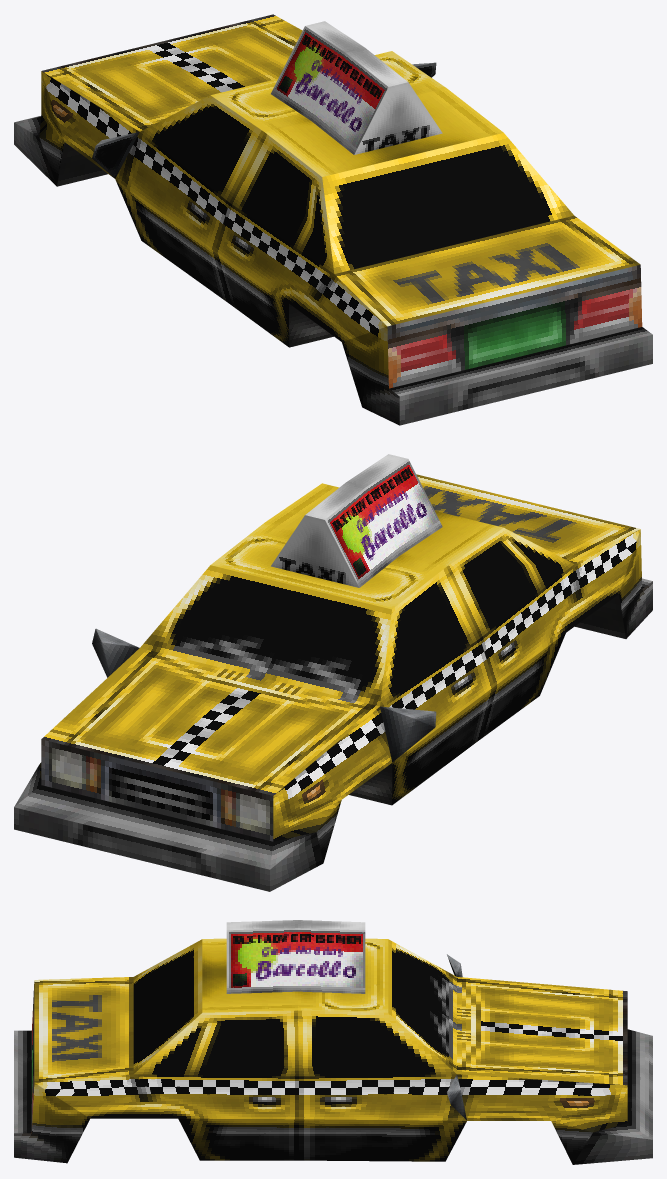
3 renders of one model, top to bottom at view 1: azimuth 30°, elevation 25°; view 2: azimuth 150°, elevation 25°; view 3: azimuth 270°, elevation 25°, orthographic. The views are drawn at different scales.
Visible parts, largest first — view 1: prim155-car; view 2: prim155-car; view 3: prim155-car.
Part boxes in pixels (box(x1,y1,x2,y2)): prim155-car: box(14, 14, 652, 425); prim155-car: box(14, 454, 652, 891); prim155-car: box(14, 920, 652, 1164).
Bounding box in the file's own units: 259 × 162 × 502.
7 materials, 7 textured.
